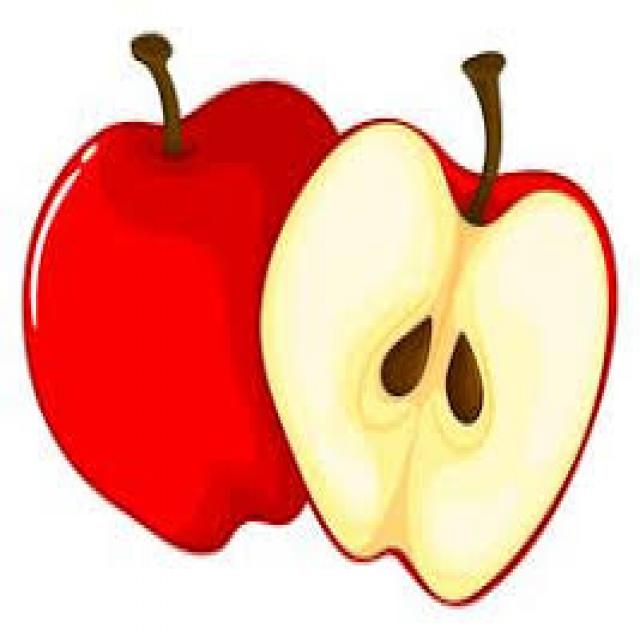Apple: (253, 49, 620, 607), (20, 34, 332, 551)
